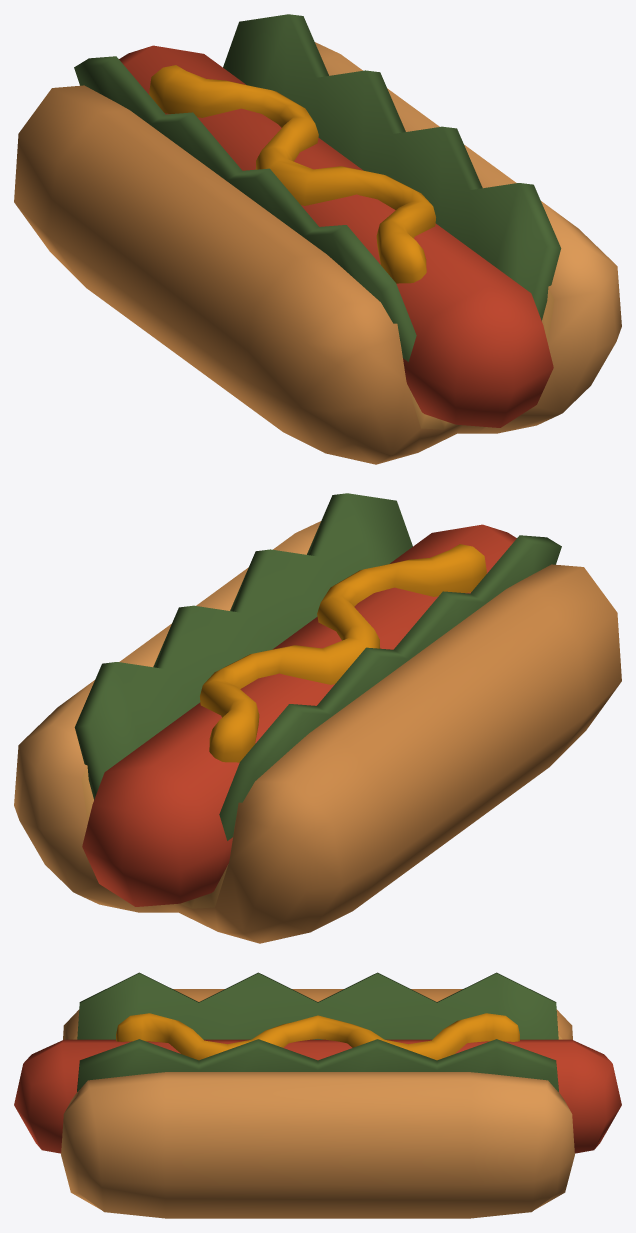
Rendered from Hotdog_Visual.fbx.
The picture shows the model from 3 angles, top to bottom: view 1: azimuth 30°, elevation 25°; view 2: azimuth 150°, elevation 25°; view 3: azimuth 270°, elevation 25°; orthographic projection. The views are drawn at different scales.
Parts seen in each view (by area): view 1: Hotdog_Visual; view 2: Hotdog_Visual; view 3: Hotdog_Visual.
Part boxes in pixels (x1,y1,x2,y2): Hotdog_Visual: (14,14,621,464); Hotdog_Visual: (14,493,621,943); Hotdog_Visual: (14,972,621,1218).
Bounding box in the file's own units: 15.92 × 10.26 × 31.28.
